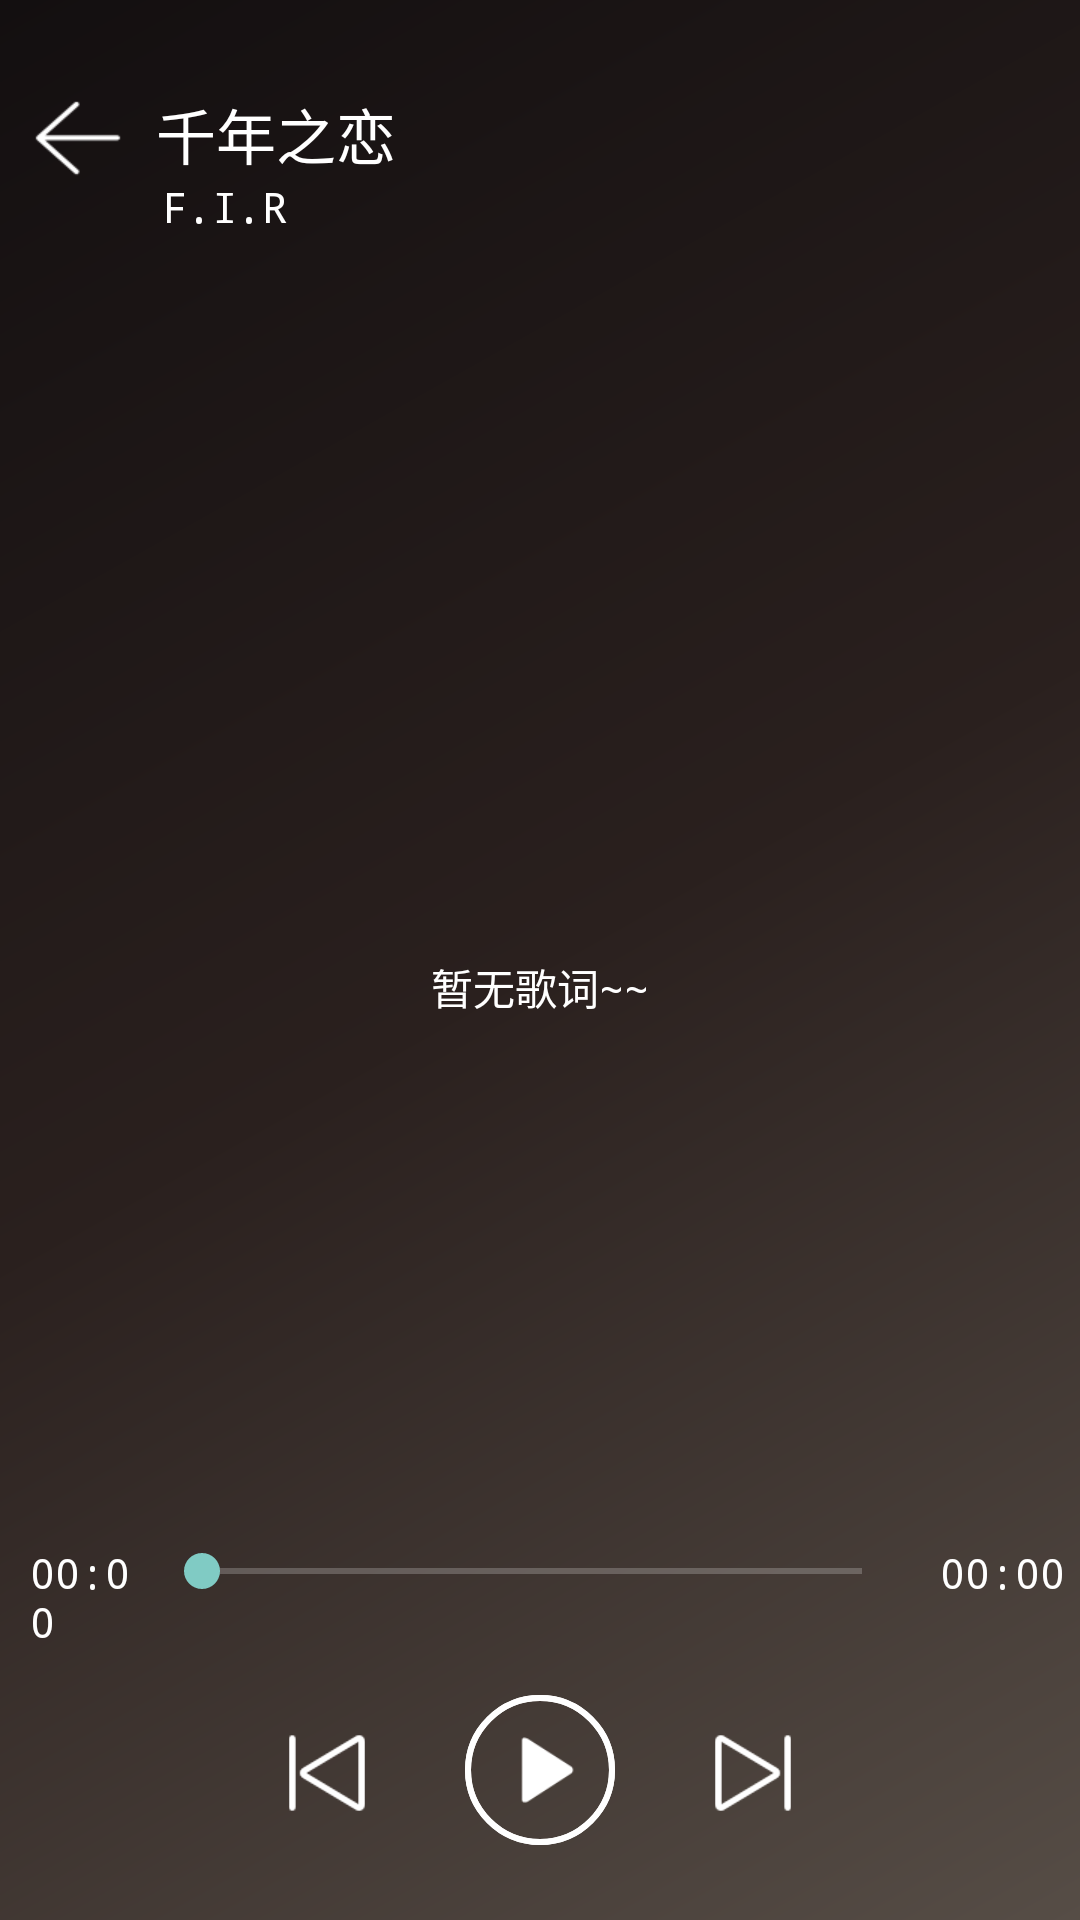

Icons on this 1080 x 1920 Android screen, each with the point to tap as point (x, y):
back: point (78, 138)
player: point (547, 1770)
